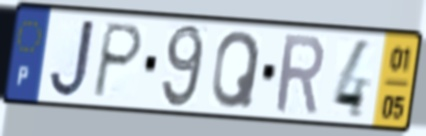4: (327, 36, 373, 121)
9: (158, 22, 207, 110)
J: (46, 16, 98, 100)
P: (89, 20, 146, 101)
Q: (209, 28, 263, 111)
R: (273, 32, 326, 117)
